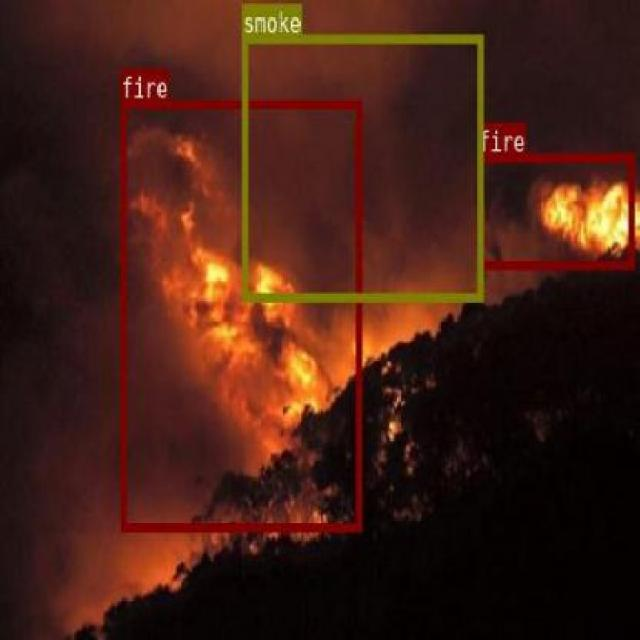Fire: (120, 98, 360, 530), (477, 152, 634, 268)
Smoke: (241, 33, 482, 299)
